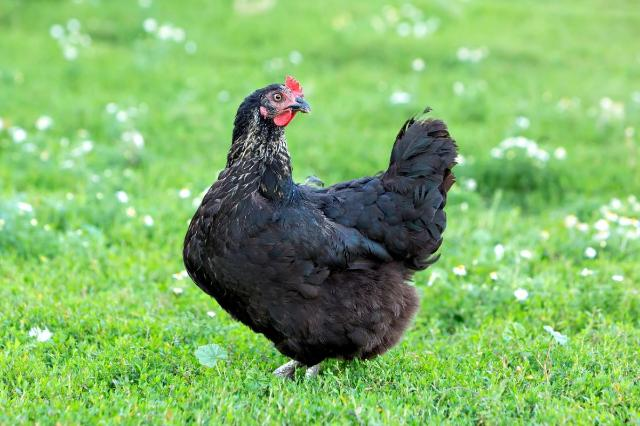Chicken: (181, 75, 459, 382)
